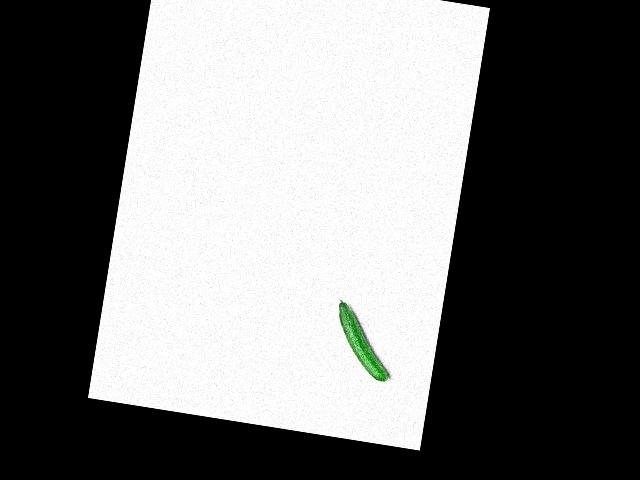cucumber: (328, 298, 400, 381)
